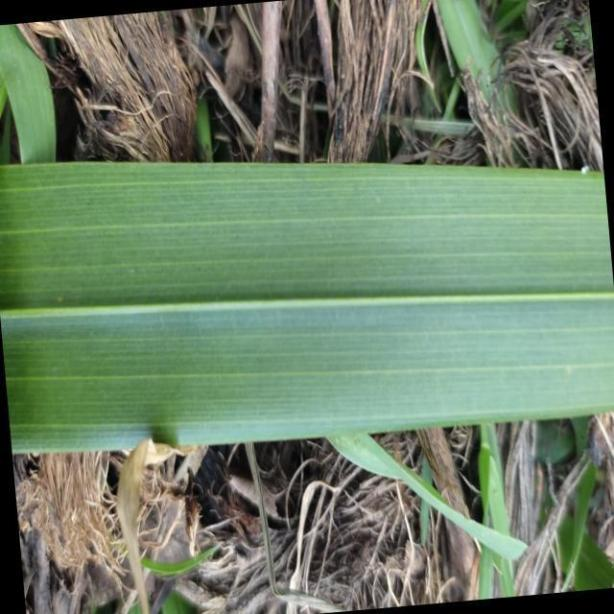Healthy: (0, 165, 614, 454)
